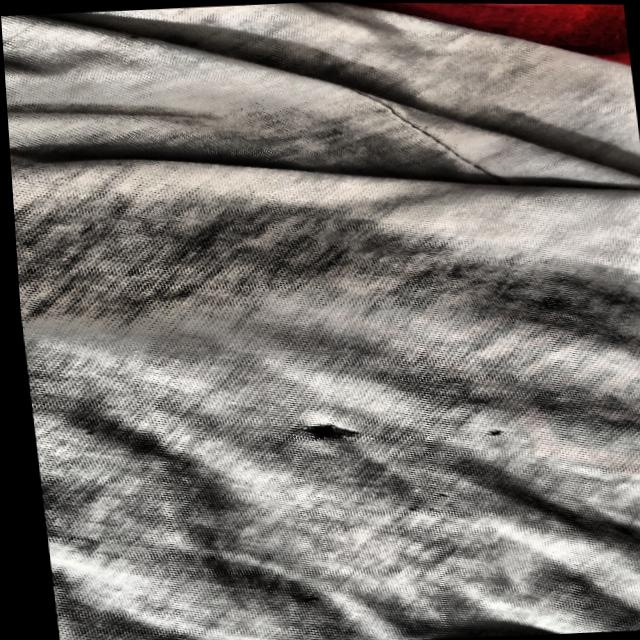Hole: (282, 409, 369, 451), (480, 422, 512, 442)
